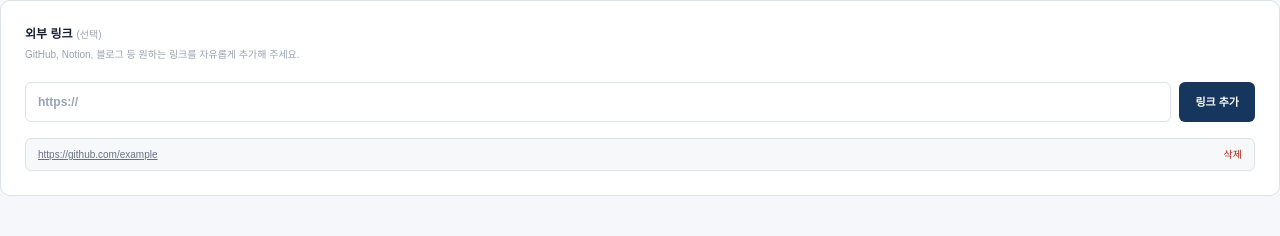
Test case: ResumeLinksSection › 이미 추가된 링크면 오류를 보여준다
Type "https://github.com/example" into the field with placeholder "https://". click: (598, 102)
box: [25,82,1172,122]
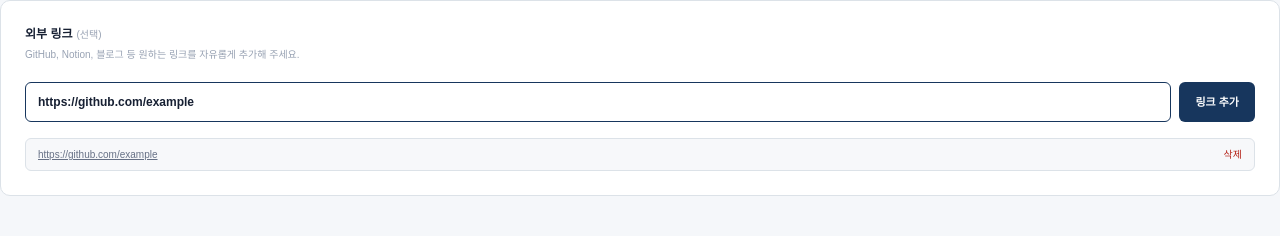
Click the button "링크 추가". click: (1217, 102)
box: [1180,82,1255,122]
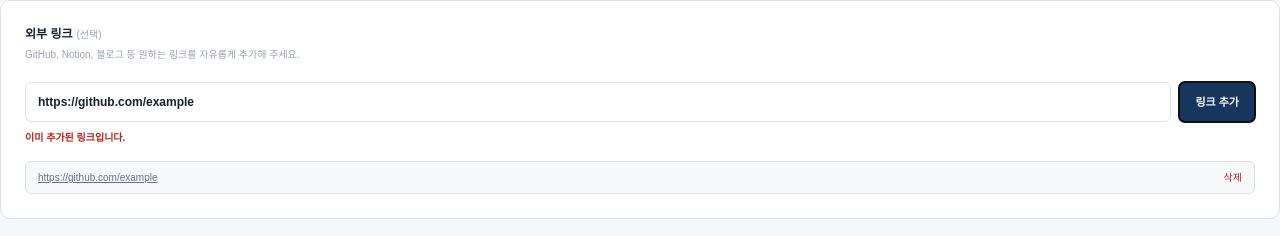
Result: the text "이미 추가된 링크입니다." is shown at [25,132,125,143]
